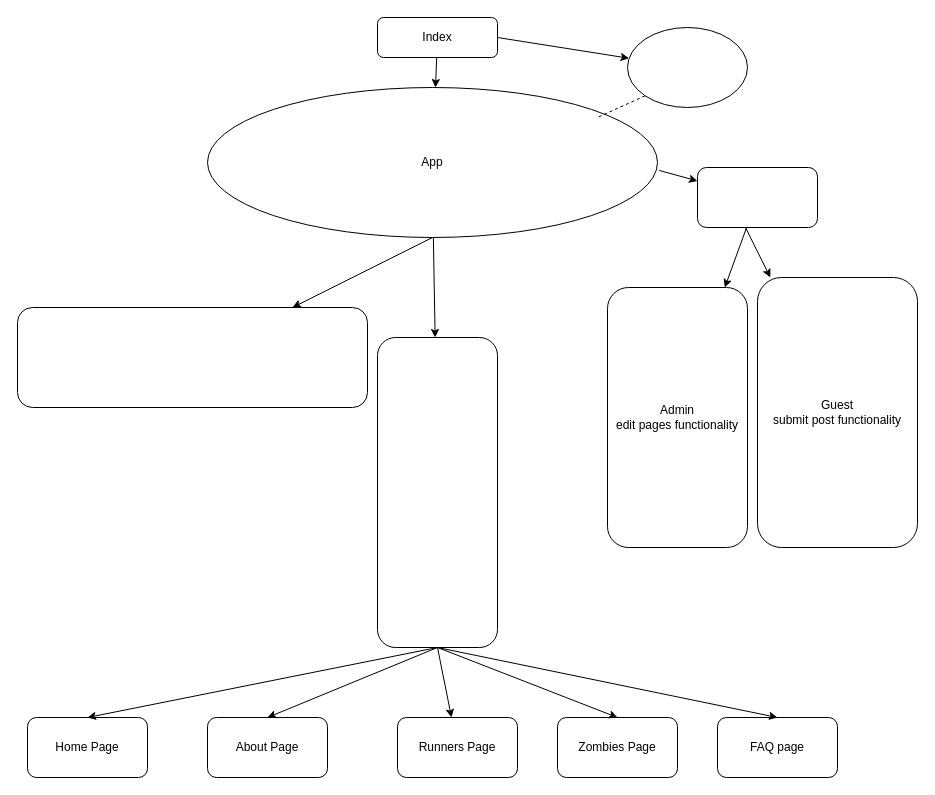
This 935x795 diagram has some shape labels left out. Here are the shapes that lost their labels. From the top down, the box of each, then its label:
(626, 26, 748, 108): Redux store
(696, 166, 818, 228): Login/Create Account
(16, 306, 368, 408): Navigation Bar Links to: Home About Runners Zombies FAQ
(376, 336, 498, 648): Routes '/' Home '/About' '/Runners' '/Zombies' '/FAQs'
